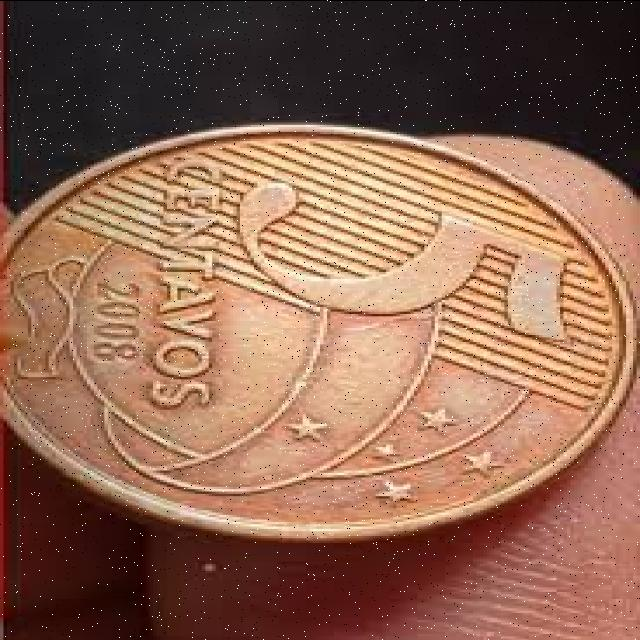5 cent: (2, 125, 634, 543)
